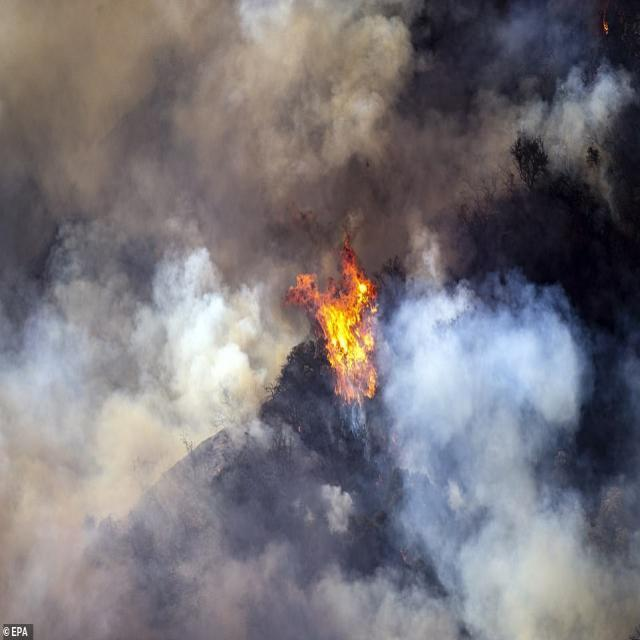Fire: (278, 229, 384, 412)
Smoke: (0, 214, 466, 640), (0, 0, 454, 297), (369, 256, 640, 640), (400, 59, 640, 215), (120, 243, 280, 458), (290, 470, 368, 555)
